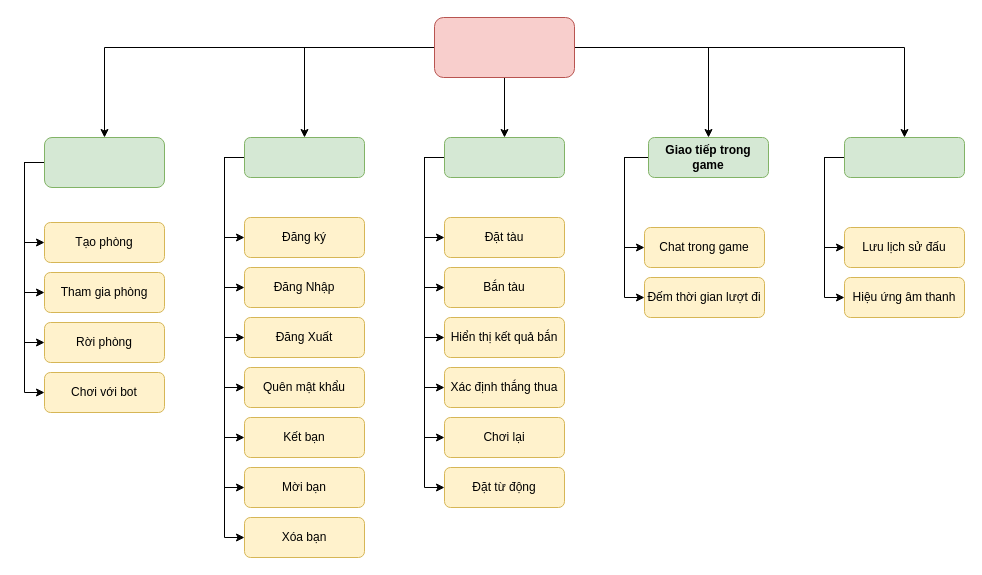
This 982x575 diagram has some shape labels left out. Each missing label, with the centre of its shape:
"BattleShip Game" belongs at (x=504, y=47).
"Chơi game" belongs at (x=504, y=157).
"Hệ thống hỗ trợ" belongs at (x=904, y=157).
"Phòng chơi" belongs at (x=104, y=162).
"Quản lý người chơi" belongs at (x=304, y=157).
